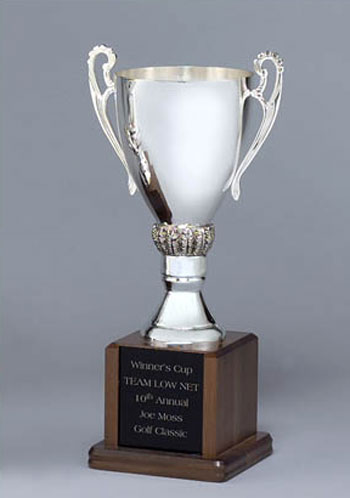trophy: (84, 37, 290, 485)
